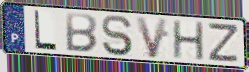B: (64, 11, 99, 54)
H: (172, 19, 207, 62)
L: (33, 9, 59, 52)
S: (101, 14, 134, 58)
V: (134, 15, 170, 60)
Z: (207, 23, 240, 65)
